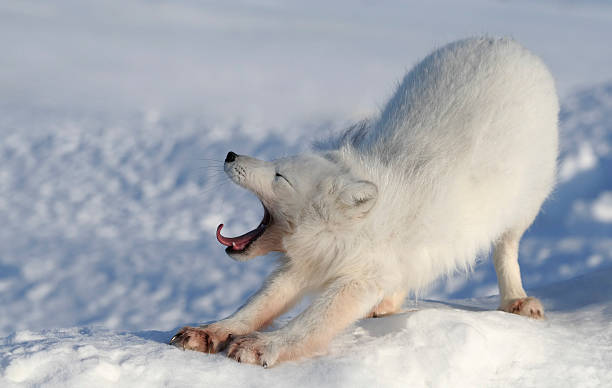arcticfox: (205, 137, 335, 274)
